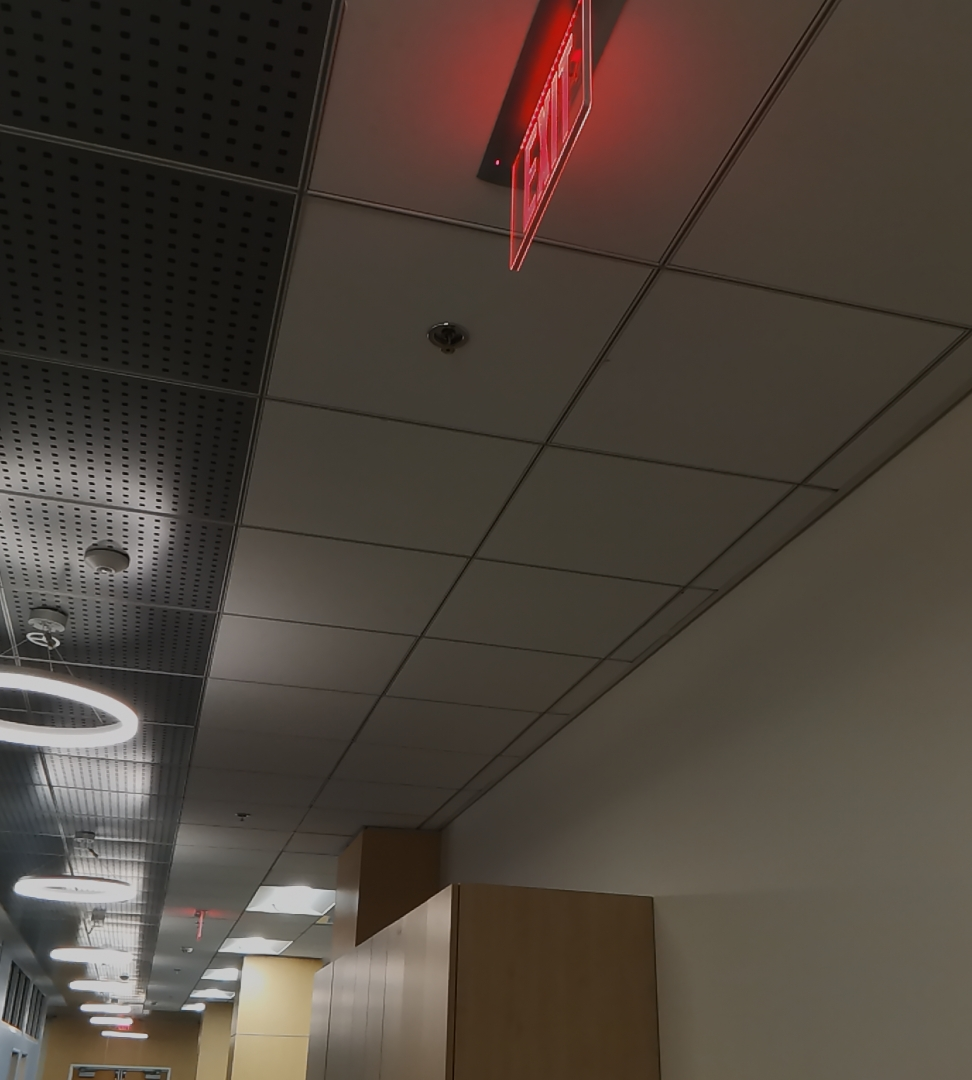emergency_exit: (504, 1, 594, 272)
